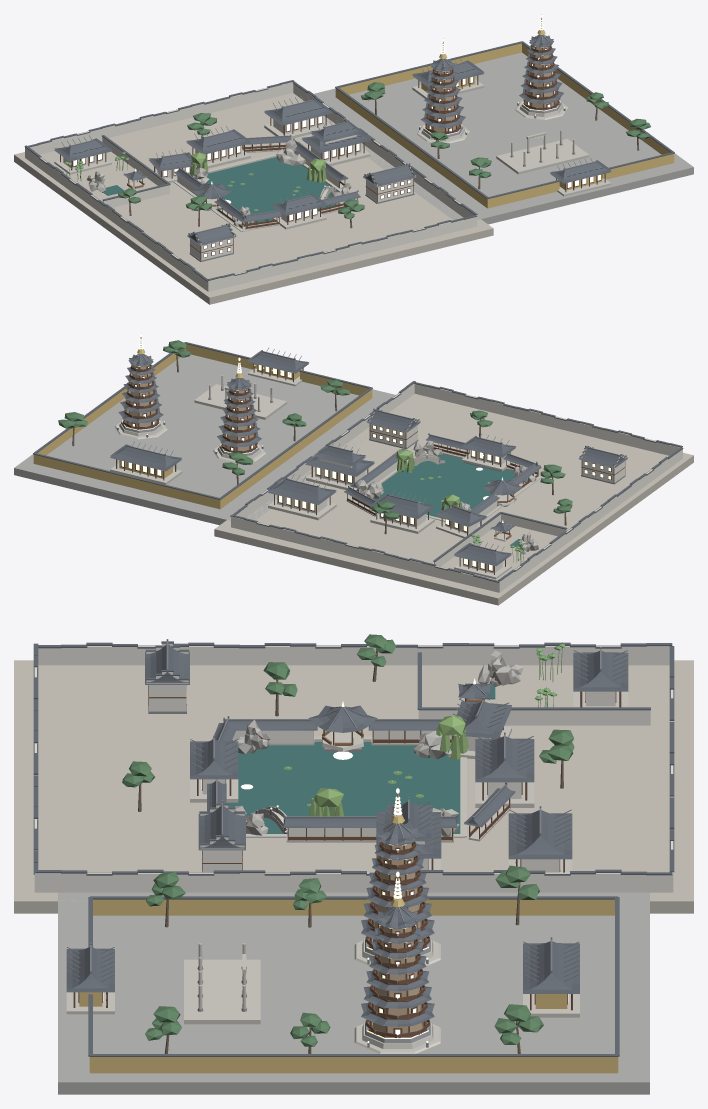
The model's file is wangshi_twin_pagodas.glb.
3 views of the same model, one above another, from view 1: azimuth 30°, elevation 25°; view 2: azimuth 150°, elevation 25°; view 3: azimuth 270°, elevation 25° (orthographic). The views are drawn at different scales.
Parts seen in each view (by area): view 1: WangshiTwin_courtyard, WangshiTwin_flagstone, WangshiTwin_dark_tile, WangshiTwin_white_wall, WangshiTwin_stone_light, WangshiTwin_ochre_wall, WangshiTwin_dark_wood, WangshiTwin_water, WangshiTwin_pine, WangshiTwin_tile_ridge, WangshiTwin_emissive_win, WangshiTwin_taihu_rock (+3 smaller); view 2: WangshiTwin_courtyard, WangshiTwin_flagstone, WangshiTwin_dark_tile, WangshiTwin_white_wall, WangshiTwin_stone_light, WangshiTwin_ochre_wall, WangshiTwin_dark_wood, WangshiTwin_water, WangshiTwin_pine, WangshiTwin_tile_ridge, WangshiTwin_emissive_win, WangshiTwin_taihu_rock (+3 smaller); view 3: WangshiTwin_courtyard, WangshiTwin_flagstone, WangshiTwin_dark_tile, WangshiTwin_white_wall, WangshiTwin_ochre_wall, WangshiTwin_stone_light, WangshiTwin_water, WangshiTwin_pine, WangshiTwin_dark_wood, WangshiTwin_tile_ridge, WangshiTwin_taihu_rock, WangshiTwin_pagoda_brick (+3 smaller).
Part boxes in pixels (x1,y1,x2,y2): WangshiTwin_courtyard: (14, 93, 493, 304); WangshiTwin_flagstone: (294, 52, 693, 224); WangshiTwin_dark_tile: (24, 35, 674, 281); WangshiTwin_white_wall: (25, 82, 476, 291); WangshiTwin_stone_light: (54, 79, 611, 231); WangshiTwin_ochre_wall: (335, 43, 674, 208); WangshiTwin_dark_wood: (60, 45, 605, 260); WangshiTwin_water: (103, 157, 337, 222); WangshiTwin_pine: (118, 45, 650, 219); WangshiTwin_tile_ridge: (61, 34, 603, 233); WangshiTwin_emissive_win: (73, 47, 600, 257); WangshiTwin_taihu_rock: (87, 140, 351, 226); WangshiTwin_courtyard: (214, 394, 693, 605); WangshiTwin_flagstone: (14, 354, 414, 525); WangshiTwin_dark_tile: (33, 342, 683, 582); WangshiTwin_white_wall: (231, 383, 682, 592); WangshiTwin_stone_light: (110, 368, 542, 579); WangshiTwin_ochre_wall: (33, 344, 372, 509); WangshiTwin_dark_wood: (116, 363, 625, 574); WangshiTwin_water: (373, 454, 520, 546); WangshiTwin_pine: (58, 340, 572, 519); WangshiTwin_tile_ridge: (119, 348, 621, 558); WangshiTwin_emissive_win: (121, 365, 610, 570); WangshiTwin_taihu_rock: (357, 440, 538, 554); WangshiTwin_courtyard: (14, 660, 693, 913); WangshiTwin_flagstone: (58, 892, 649, 1094); WangshiTwin_dark_tile: (33, 641, 674, 1056); WangshiTwin_white_wall: (34, 643, 673, 892); WangshiTwin_ochre_wall: (79, 899, 618, 1073); WangshiTwin_stone_light: (66, 691, 628, 1053); WangshiTwin_water: (227, 683, 495, 833); WangshiTwin_pine: (122, 634, 574, 1046); WangshiTwin_dark_wood: (73, 685, 621, 1037); WangshiTwin_tile_ridge: (67, 639, 627, 981); WangshiTwin_taihu_rock: (234, 650, 523, 836); WangshiTwin_pagoda_brick: (373, 843, 422, 1033).
Size of the model in its own units: 182 by 36 by 124.
